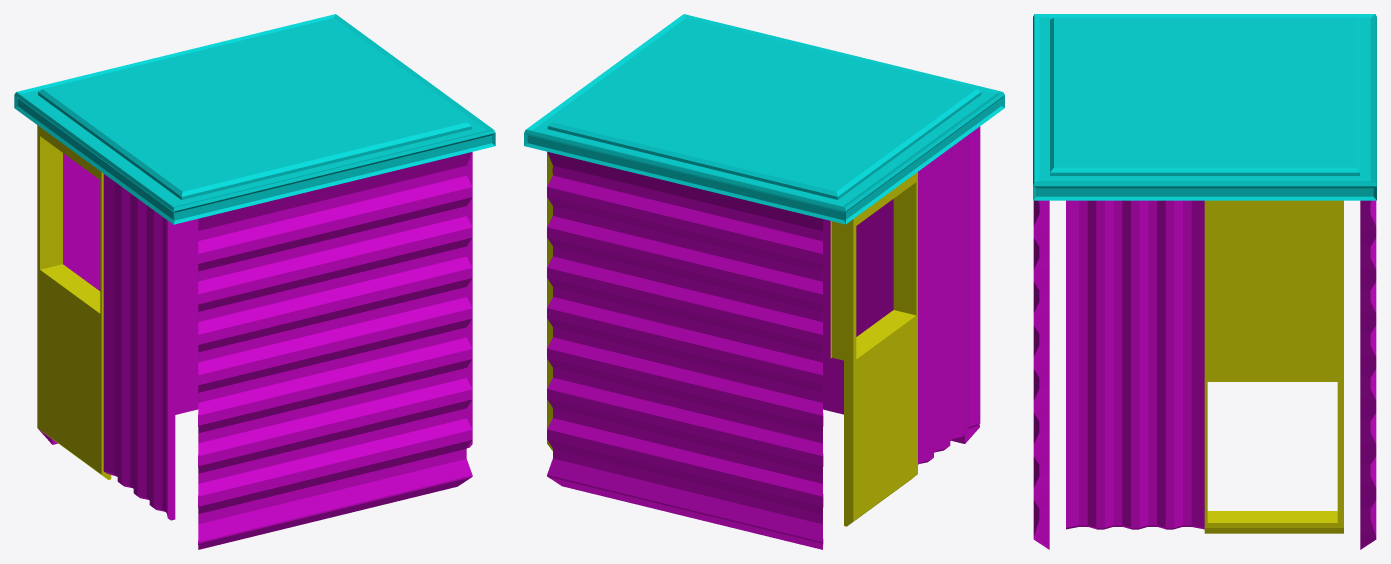
File: UpperBuildingShell.fbx
3 views of the same model, side by side, from view 1: azimuth 30°, elevation 25°; view 2: azimuth 150°, elevation 25°; view 3: azimuth 270°, elevation 25° (orthographic). The views are drawn at different scales.
Parts seen in each view (by area): view 1: UpperBuildingShell; view 2: UpperBuildingShell; view 3: UpperBuildingShell.
Boxes of the visible parts, left/top/right/bottom form: UpperBuildingShell: left=14, top=14, right=495, bottom=549; UpperBuildingShell: left=524, top=14, right=1004, bottom=549; UpperBuildingShell: left=1033, top=14, right=1376, bottom=549.
Bounding box in the file's own units: 12.55 × 13.4 × 10.75.
